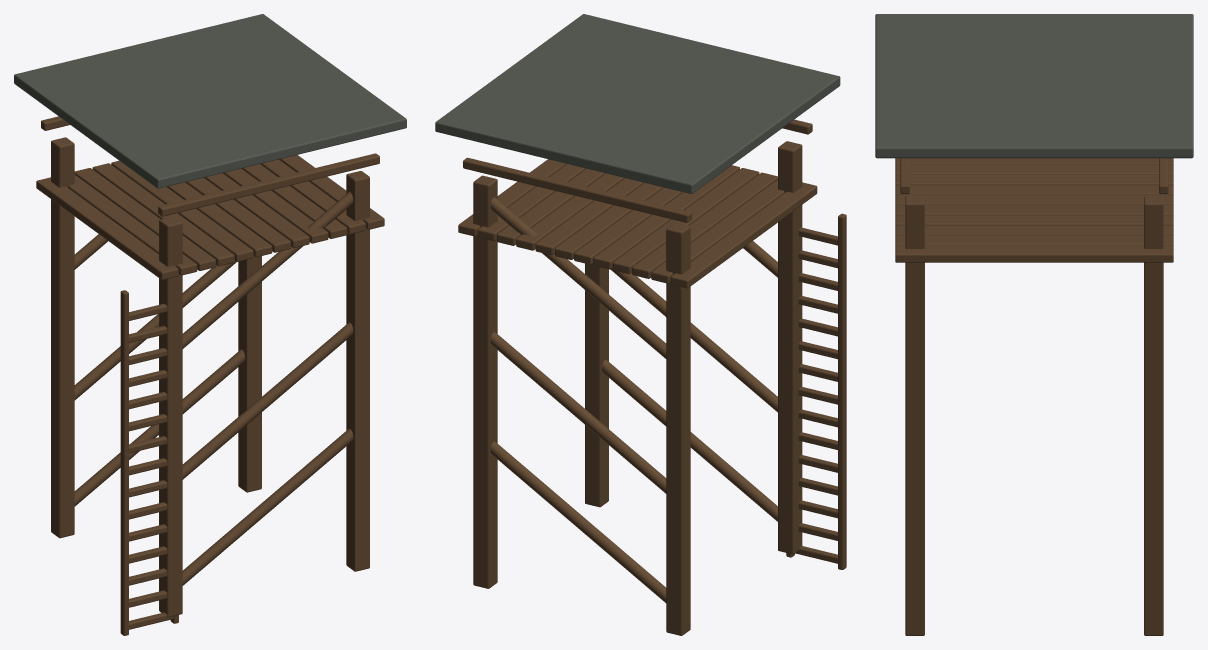
Rendered from Watchtower.fbx.
3 renders of one model, left to right at view 1: azimuth 30°, elevation 25°; view 2: azimuth 150°, elevation 25°; view 3: azimuth 270°, elevation 25°, orthographic. The views are drawn at different scales.
Parts seen in each view (by area): view 1: Watchtower; view 2: Watchtower; view 3: Watchtower.
Part boxes in pixels (box(x1,y1,x2,y2)): Watchtower: box(14, 14, 406, 635); Watchtower: box(435, 14, 846, 635); Watchtower: box(875, 14, 1193, 635).
Bounding box in the file's own units: 346 × 320 × 566.
